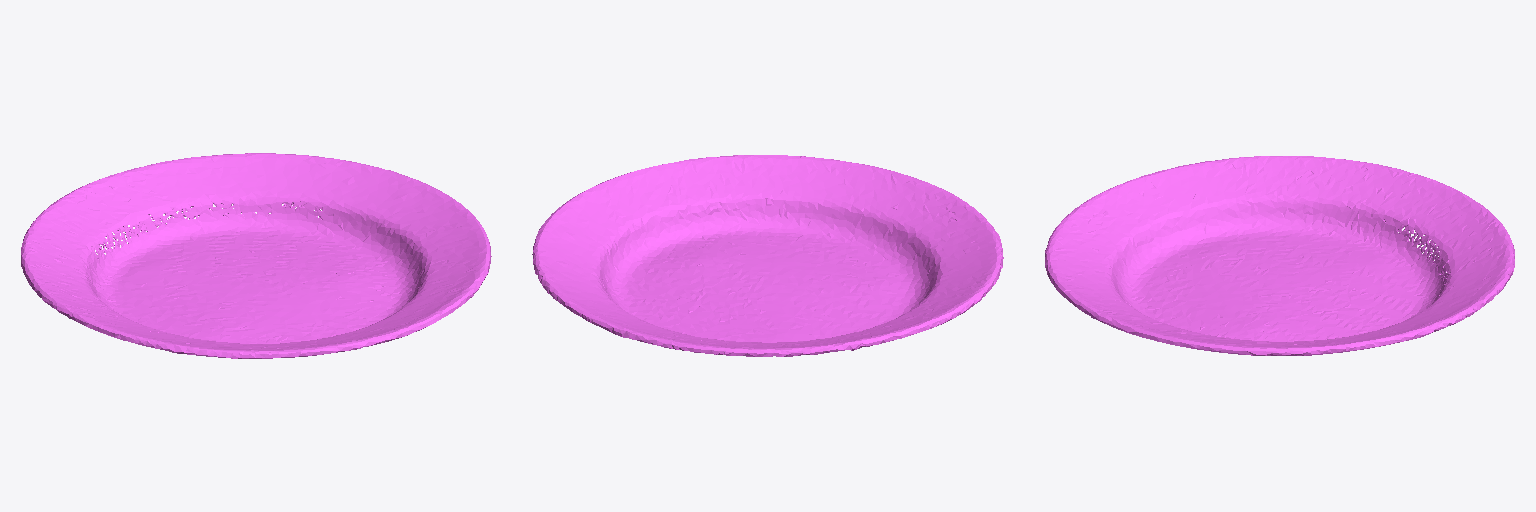
robot.urdf — plate_cvx_simple:
<?xml version="1.0" ?>
<robot name="plate_cvx_simple">
  <link name="plateLink">
    <inertial>
      <origin rpy="0 0 0" xyz="0 0 0"/>
       <mass value="4.0"/>
       <inertia ixx="1" ixy="0" ixz="0" iyy="1" iyz="0" izz="1"/>
    </inertial>
    <visual>
      <origin rpy="0 0 0" xyz="0 0 0"/>
      <geometry>
		    <mesh filename="plate.stl" scale="1 1 1"/>
      </geometry>
       <material name="white">
        <color rgba="1 0.5 1 1"/>
      </material>
    </visual>
    <collision>
      <origin rpy="0 0 0" xyz="0 0 0"/>
      <geometry>
	 	    <mesh filename="plate_cvx_simple.obj" scale="1 1 1"/>
      </geometry>
    </collision>
  </link>
</robot>

--- Facts derived from the render (not from the file) ---
The picture shows the robot from 3 angles, left to right: view 1: azimuth 30°, elevation 25°; view 2: azimuth 150°, elevation 25°; view 3: azimuth 270°, elevation 25°; orthographic projection.
Model plate_cvx_simple with 1 links and 0 joints (none), rooted at plateLink, posed all joints at 0.
Links seen in each view (by area): view 1: plateLink; view 2: plateLink; view 3: plateLink.
Boxes of the visible links, x1=… form: plateLink: x1=21, y1=153, x2=491, y2=358; plateLink: x1=532, y1=155, x2=1003, y2=356; plateLink: x1=1045, y1=156, x2=1514, y2=355.
Size in the robot's own frame: 0.3902 by 0.3917 by 0.0401 metres.
Meshes: 1 distinct files referenced, 1 mesh visuals loaded (1 binary STL).